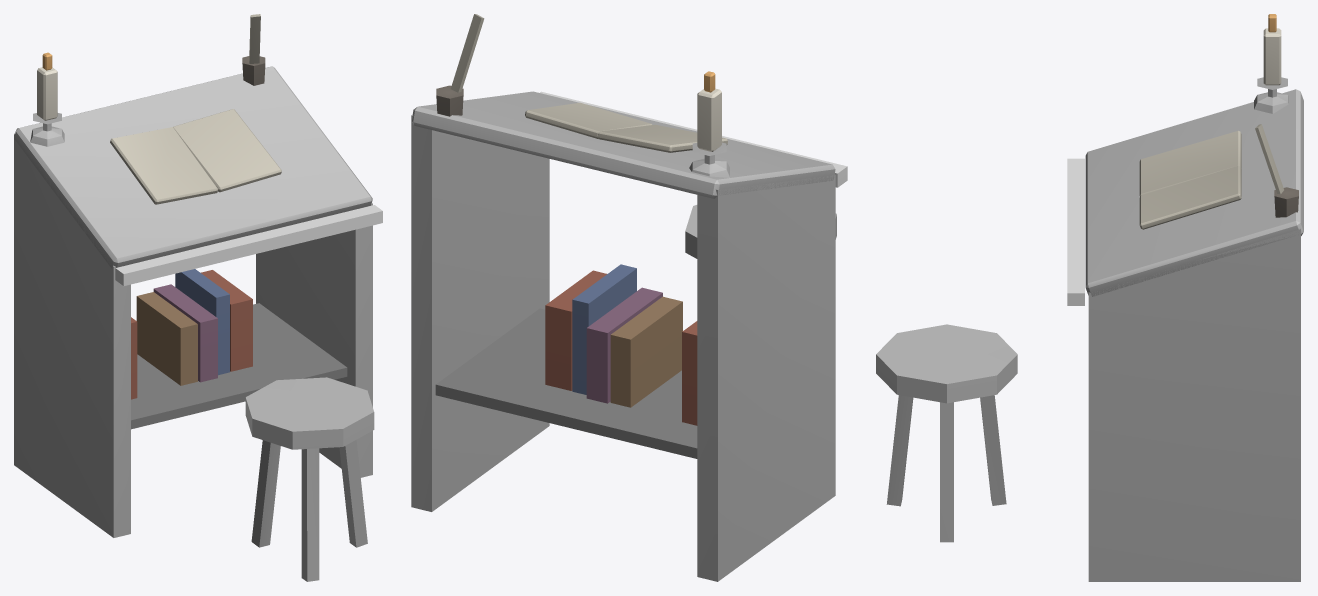
File: writing_desk_0.glb
3 renders of one model, left to right at view 1: azimuth 30°, elevation 25°; view 2: azimuth 150°, elevation 25°; view 3: azimuth 270°, elevation 25°, orthographic. The views are drawn at different scales.
Parts seen in each view (by area): view 1: book; view 2: book; view 3: book.
Part boxes in pixels (x1=…): book: x1=14, y1=14, x2=382, y2=581; book: x1=411, y1=14, x2=847, y2=581; book: x1=876, y1=14, x2=1303, y2=581.
Size of the model in its own units: 0.9 by 1.38 by 1.21.
